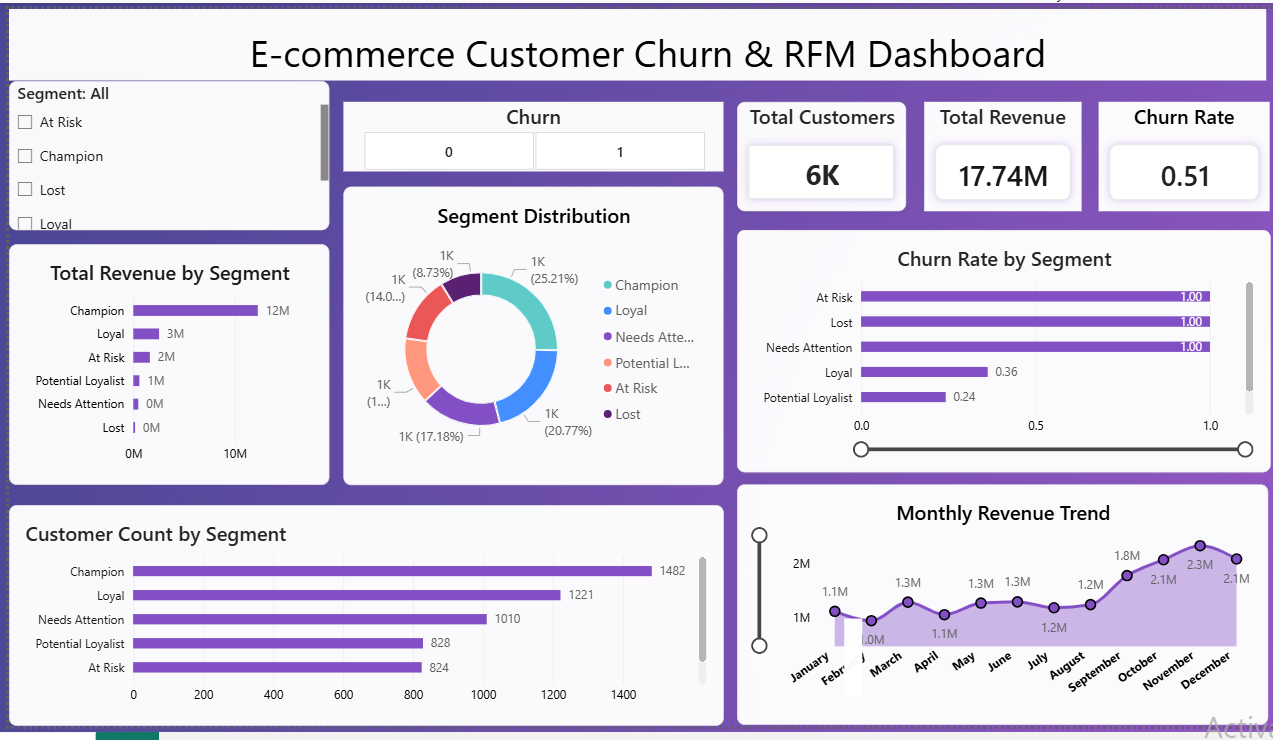

The page's visual inventory and layout, read from the dashboard file:
{"tool":"powerbi","page":{"name":"Page 1","canvas":[1280,720],"ordinal":0},"visuals":[{"type":"lineChart","title":"Monthly Revenue Trend","fields":{"Category":["monthly_sales.Month.Variation.Date Hierarchy.Month"],"Y":["Sum(monthly_sales.Revenue)"]},"box":[732,478,534,242],"z":6},{"type":"cardVisual","title":"Total Customers","fields":{"Data":["rfm_segments.Customer Count"]},"box":[732,94,170,110],"z":7},{"type":"cardVisual","title":"Total Revenue","fields":{"Data":["Sum(monthly_sales.Revenue)"]},"box":[920,94,158,110],"z":8},{"type":"cardVisual","title":"Churn Rate","fields":{"Data":["Avg(rfm_segments.Churn)"]},"box":[1094,94,172,110],"z":9},{"type":"textbox","box":[838.3,611.7,18.3,78.3],"z":10},{"type":"textbox","box":[0,0,1263.3,71.7],"z":11},{"type":"slicer","fields":{"Values":["rfm_segments.Segment"]},"box":[0,72,322,150],"z":13},{"type":"barChart","title":"Customer Count by Segment","fields":{"Category":["rfm_segments.Segment"],"Y":["rfm_segments.Customer Count"]},"box":[0,498,718,222],"z":15},{"type":"barChart","title":"Churn Rate by Segment","fields":{"Category":["rfm_segments.Segment"],"Y":["Avg(rfm_segments.Churn)"]},"box":[732,222,536,244],"z":16},{"type":"barChart","title":"Total Revenue by Segment","fields":{"Category":["rfm_segments.Segment"],"Y":["Sum(rfm_segments.Monetary)"]},"box":[0,236,322,242],"z":17},{"type":"slicer","title":"Churn","fields":{"Values":["rfm_segments.Churn"]},"box":[336,94,382,70],"z":18},{"type":"donutChart","title":"Segment Distribution","fields":{"Category":["rfm_segments.Segment"],"Y":["rfm_segments.Customer Count"]},"box":[336,178,382,300],"z":19}]}

Visuals, with their boxes in screenshot pixels (x1, y1, x2, y2):
"Monthly Revenue Trend" lineChart: <bbox>748, 486, 1272, 732</bbox>
"Total Customers" cardVisual: <bbox>748, 96, 921, 207</bbox>
"Total Revenue" cardVisual: <bbox>939, 96, 1099, 207</bbox>
"Churn Rate" cardVisual: <bbox>1116, 96, 1272, 207</bbox>
textbox: <bbox>856, 622, 874, 702</bbox>
textbox: <bbox>3, 0, 1272, 73</bbox>
slicer - rfm_segments.Segment: <bbox>3, 73, 331, 226</bbox>
"Customer Count by Segment" barChart: <bbox>3, 506, 733, 732</bbox>
"Churn Rate by Segment" barChart: <bbox>748, 226, 1272, 474</bbox>
"Total Revenue by Segment" barChart: <bbox>3, 240, 331, 486</bbox>
"Churn" slicer: <bbox>345, 96, 733, 167</bbox>
"Segment Distribution" donutChart: <bbox>345, 181, 733, 486</bbox>
